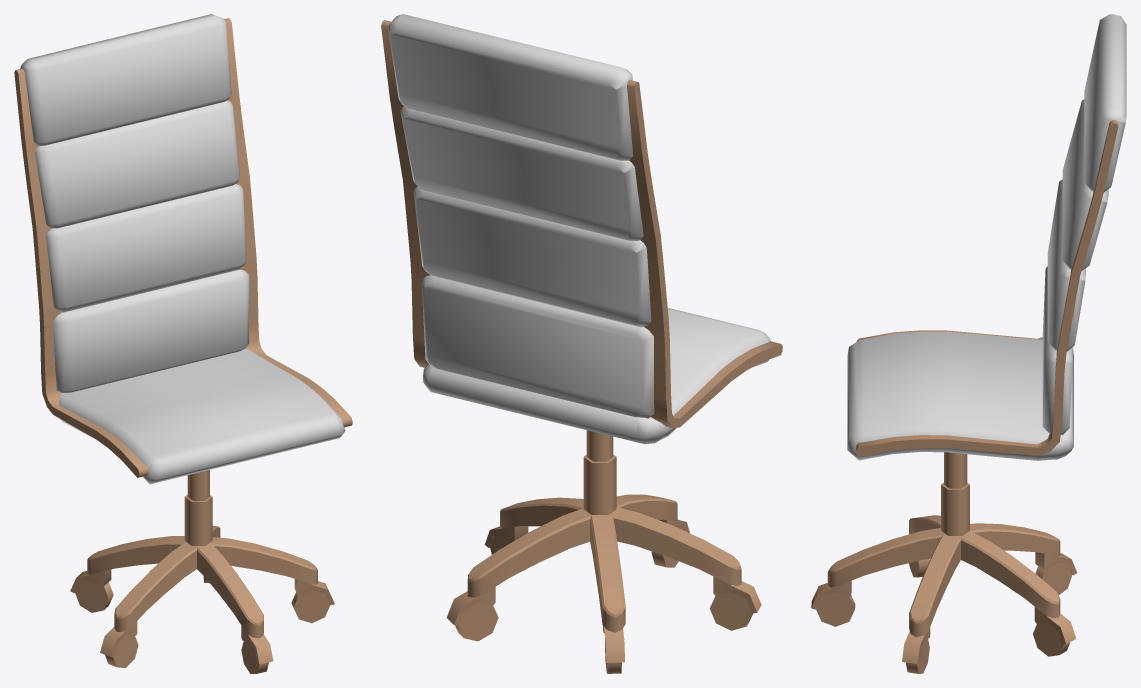
The model's file is Chair_W.fbx.
The picture shows the model from 3 angles, left to right: view 1: azimuth 30°, elevation 25°; view 2: azimuth 150°, elevation 25°; view 3: azimuth 270°, elevation 25°; orthographic projection. The views are drawn at different scales.
Visible parts, largest first — view 1: polySurface16, polySurface22; view 2: polySurface16, polySurface22; view 3: polySurface16, polySurface22.
Part boxes in pixels (x1,y1,x2,y2): polySurface16: (20,14,345,484); polySurface22: (14,18,352,673); polySurface16: (388,14,770,444); polySurface22: (381,20,782,673); polySurface16: (847,14,1126,460); polySurface22: (811,14,1118,673).
Bounding box in the file's own units: 44.48 × 99.14 × 50.27.
